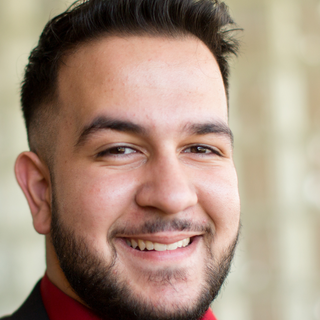eye: (86, 141, 150, 172), (175, 136, 229, 171)
